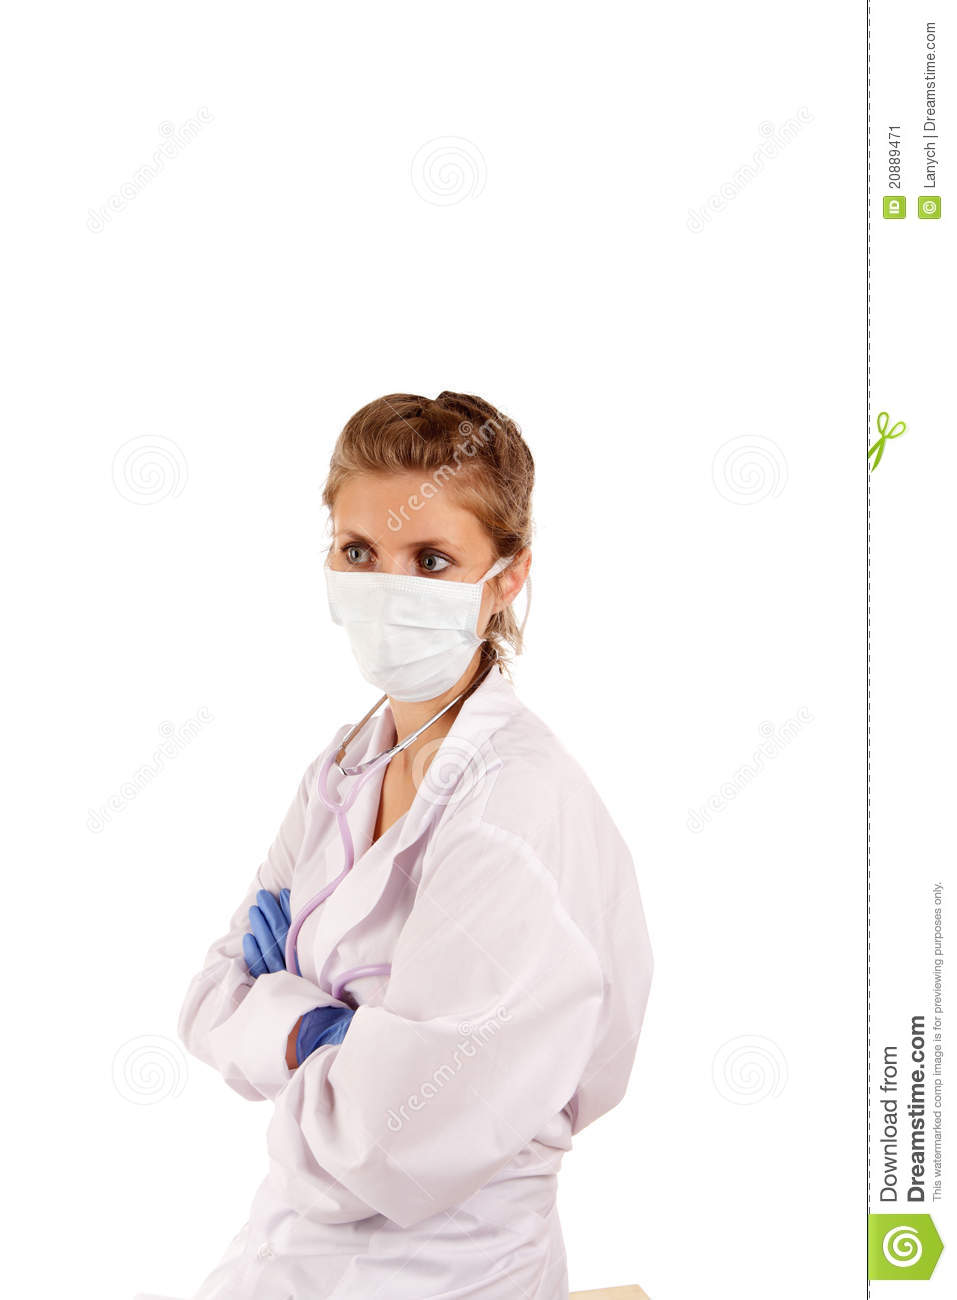mask: (323, 566, 486, 709)
